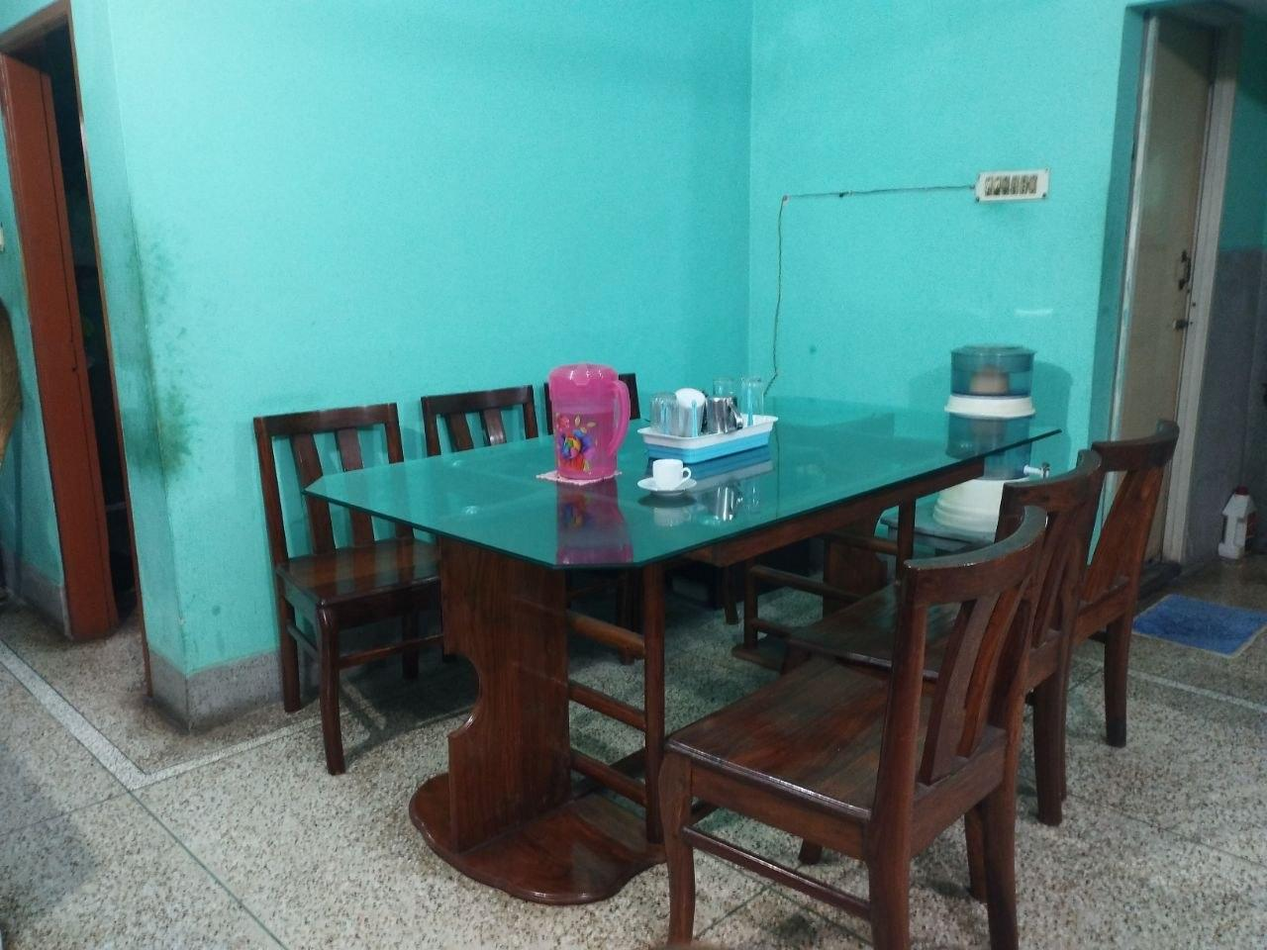Chair: (654, 421, 1252, 940), (216, 383, 456, 768)
Cup: (634, 458, 703, 498)
Door: (1083, 8, 1217, 625)
Floor Mat: (1085, 587, 1267, 662)
Glass: (715, 378, 784, 430)
Jug: (534, 353, 631, 504)
Table: (262, 371, 1053, 922)
